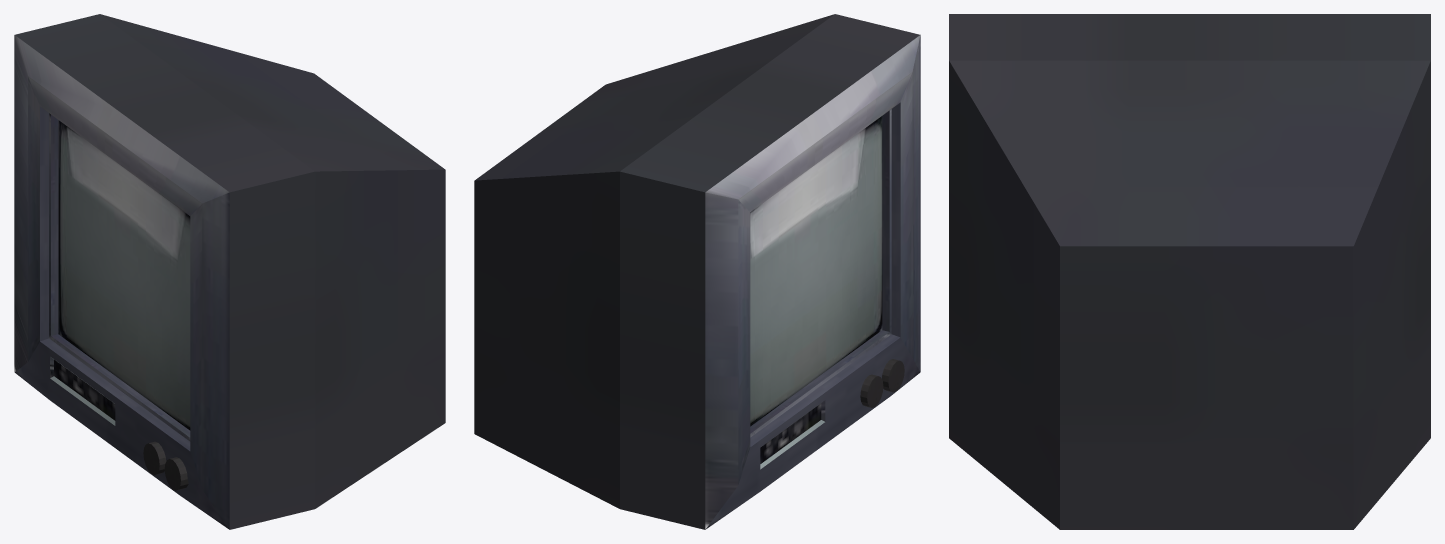
The model's file is msh_tele.fbx.
3 renders of one model, left to right at view 1: azimuth 30°, elevation 25°; view 2: azimuth 150°, elevation 25°; view 3: azimuth 270°, elevation 25°, orthographic. The views are drawn at different scales.
Parts seen in each view (by area): view 1: msh_tele; view 2: msh_tele; view 3: msh_tele.
Boxes of the visible parts, x1,y1,x2,y2 form: msh_tele: (14,14,445,529); msh_tele: (474,14,920,529); msh_tele: (949,14,1430,529).
Size of the model in its own units: 183 by 210 by 242.
